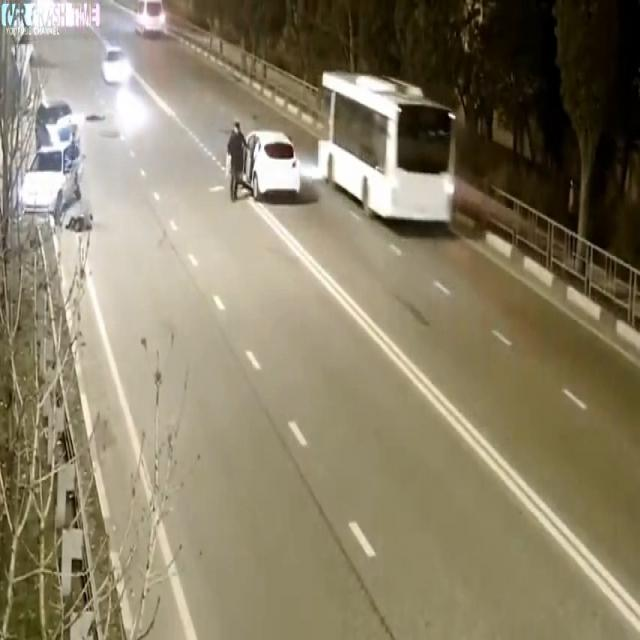Accident: (13, 75, 104, 263)
